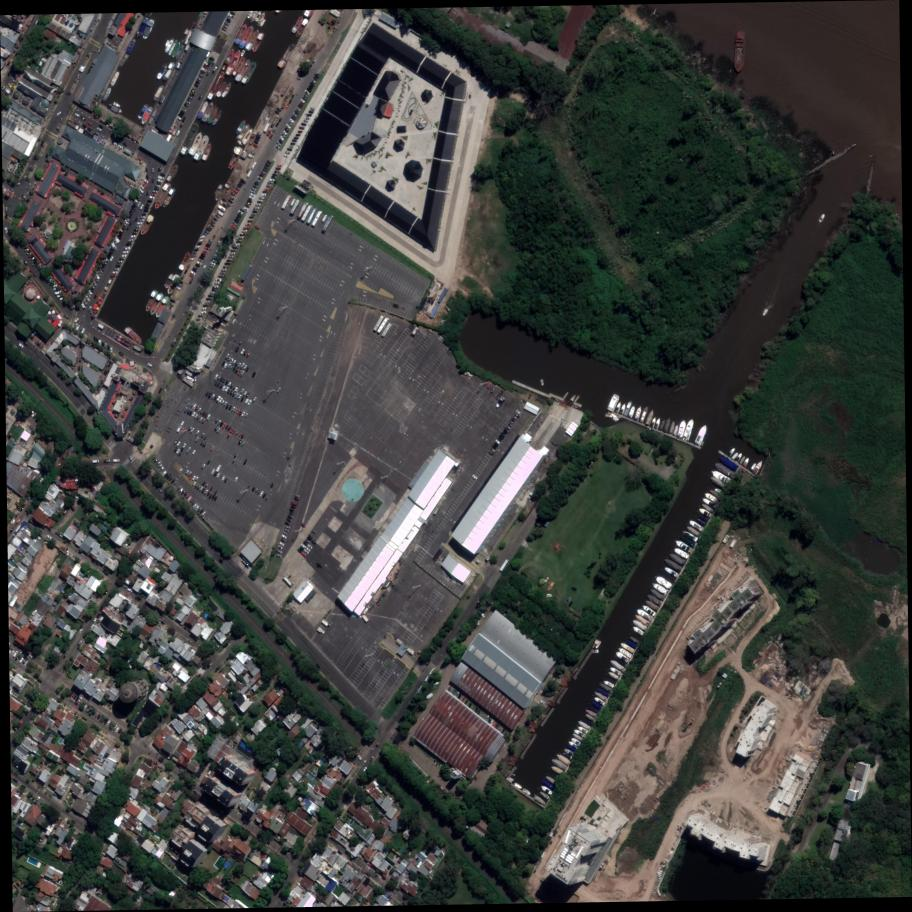large-vehicle: (376, 316, 390, 336), (372, 314, 386, 333), (301, 203, 314, 222), (297, 201, 310, 220), (306, 207, 318, 226), (311, 210, 323, 228), (322, 215, 334, 232), (289, 199, 301, 215), (381, 323, 392, 338), (281, 195, 292, 210), (410, 326, 420, 338), (289, 198, 297, 208), (250, 161, 258, 171), (321, 214, 328, 223), (246, 170, 253, 179), (206, 227, 212, 233), (244, 204, 251, 208), (246, 168, 250, 174)
ship: (178, 121, 203, 158), (151, 180, 174, 211), (206, 71, 227, 103), (276, 41, 299, 70), (223, 48, 244, 77), (192, 132, 212, 162), (733, 28, 746, 74), (225, 144, 246, 172), (237, 23, 257, 51), (233, 56, 253, 83), (240, 58, 259, 86), (186, 130, 205, 158), (243, 27, 262, 53), (147, 291, 166, 317), (123, 324, 145, 346), (153, 294, 171, 320), (142, 288, 160, 314), (712, 460, 736, 479), (138, 213, 156, 237), (709, 467, 733, 485), (693, 422, 710, 447), (140, 17, 156, 43), (672, 536, 695, 554), (293, 16, 310, 40), (249, 31, 266, 55), (233, 22, 250, 46), (231, 54, 248, 78), (161, 186, 178, 210), (221, 46, 237, 71), (134, 16, 151, 39), (681, 416, 696, 442), (200, 100, 216, 124), (239, 126, 257, 147), (234, 123, 252, 144), (165, 273, 181, 296), (177, 249, 193, 272), (206, 102, 221, 126), (289, 14, 306, 35), (718, 455, 739, 472), (663, 556, 684, 573), (653, 574, 674, 591), (160, 61, 176, 83), (650, 580, 670, 597), (606, 392, 622, 413), (165, 162, 181, 183), (549, 756, 569, 772), (635, 607, 655, 623), (162, 35, 177, 56), (709, 475, 730, 490), (219, 80, 234, 100), (667, 552, 687, 567), (632, 612, 652, 627), (140, 105, 154, 126), (196, 99, 210, 120), (201, 140, 214, 162), (672, 546, 691, 561), (155, 61, 169, 81), (166, 38, 180, 58), (108, 68, 122, 88), (675, 418, 688, 439), (687, 518, 705, 533), (662, 564, 680, 579), (648, 587, 666, 602), (645, 592, 663, 607), (643, 598, 661, 613), (640, 603, 658, 618), (215, 79, 229, 98), (136, 103, 150, 122), (151, 84, 165, 103), (681, 529, 700, 543), (213, 181, 225, 203), (531, 792, 548, 807), (613, 649, 630, 664), (609, 657, 626, 672), (162, 272, 176, 290), (234, 118, 248, 136), (751, 458, 765, 476), (616, 645, 634, 659), (703, 491, 721, 505), (700, 496, 718, 510), (685, 524, 703, 538), (631, 618, 649, 632), (170, 40, 183, 59), (211, 108, 224, 127), (555, 752, 572, 766), (597, 680, 614, 694), (549, 763, 566, 776), (619, 641, 636, 654), (696, 506, 713, 519), (622, 399, 634, 417), (644, 408, 656, 426), (639, 405, 650, 424), (538, 784, 554, 797), (540, 777, 556, 790), (117, 53, 130, 69), (593, 689, 609, 702), (708, 488, 724, 501), (101, 86, 113, 103), (126, 37, 137, 55), (662, 415, 673, 433), (544, 774, 559, 787), (631, 624, 646, 637), (494, 395, 506, 410), (572, 727, 587, 739), (633, 404, 643, 422), (596, 686, 611, 698), (700, 502, 715, 514), (256, 11, 267, 27), (174, 44, 185, 60), (179, 28, 190, 44), (571, 731, 585, 743), (577, 719, 591, 731), (608, 665, 623, 676), (593, 695, 606, 707), (606, 670, 620, 681), (602, 678, 616, 689), (653, 415, 663, 430), (628, 403, 637, 419), (726, 446, 738, 458), (576, 724, 589, 735), (567, 739, 580, 750), (565, 743, 578, 754), (591, 700, 604, 711), (625, 639, 638, 650), (584, 708, 598, 718), (538, 790, 551, 800), (563, 747, 576, 757), (734, 451, 744, 464), (628, 635, 641, 645), (584, 712, 597, 722), (254, 9, 263, 23), (614, 400, 623, 414), (672, 423, 681, 437), (570, 736, 582, 746), (749, 461, 759, 473), (738, 454, 748, 466), (561, 751, 574, 760), (658, 418, 667, 431), (669, 420, 677, 434), (730, 451, 741, 461), (521, 787, 533, 796), (742, 456, 751, 468), (619, 402, 627, 415), (513, 781, 524, 790), (610, 412, 621, 421), (818, 212, 827, 223), (591, 638, 600, 649), (650, 416, 658, 428), (569, 394, 578, 403), (425, 692, 435, 700), (259, 18, 267, 28), (564, 595, 572, 605), (112, 101, 122, 109), (761, 308, 769, 318), (594, 640, 602, 650), (239, 49, 246, 58), (164, 39, 171, 48), (604, 413, 614, 419), (591, 649, 600, 655), (611, 416, 618, 422), (540, 378, 545, 386), (433, 681, 440, 686), (701, 440, 705, 447)
small-vehicle: (216, 204, 227, 213), (316, 627, 326, 635), (216, 209, 225, 217), (445, 305, 453, 313), (107, 277, 114, 286), (171, 128, 178, 137), (215, 464, 222, 473), (215, 395, 222, 404), (80, 302, 87, 310), (110, 241, 117, 249), (8, 526, 15, 534), (14, 654, 21, 662), (12, 650, 19, 658), (103, 718, 110, 726), (475, 617, 481, 626), (14, 181, 21, 188), (111, 140, 118, 147), (114, 237, 121, 244), (73, 317, 80, 324), (18, 342, 25, 349), (91, 617, 98, 624), (28, 519, 35, 526), (302, 548, 309, 555), (307, 543, 314, 550), (172, 480, 179, 487), (161, 470, 168, 477), (543, 576, 550, 583), (513, 412, 520, 419), (493, 441, 500, 448), (214, 644, 221, 651), (240, 178, 247, 185), (176, 425, 182, 433), (157, 175, 165, 181), (36, 265, 44, 271), (137, 193, 143, 201), (54, 290, 62, 296), (60, 583, 66, 591), (203, 62, 211, 68), (179, 427, 185, 435), (185, 446, 191, 454), (181, 443, 187, 451), (480, 610, 486, 618), (112, 724, 118, 732), (91, 709, 97, 717), (215, 426, 221, 434), (230, 192, 238, 198), (188, 277, 194, 285), (211, 258, 219, 264), (213, 425, 219, 433), (247, 153, 255, 159), (204, 390, 210, 398), (239, 395, 245, 403), (229, 389, 235, 397), (231, 428, 237, 436), (194, 405, 200, 413), (216, 419, 222, 427), (239, 362, 245, 370), (239, 370, 245, 378), (58, 296, 67, 301), (123, 246, 130, 252), (143, 178, 150, 184), (181, 116, 187, 123), (117, 144, 124, 150), (131, 205, 137, 212), (124, 219, 130, 226), (30, 412, 37, 418), (75, 325, 81, 332), (19, 505, 25, 512), (127, 587, 134, 593), (10, 518, 16, 525), (46, 534, 53, 540), (15, 517, 21, 524), (175, 130, 181, 137), (12, 74, 18, 81), (189, 91, 196, 97), (192, 503, 199, 509), (188, 498, 195, 504), (184, 493, 190, 500), (182, 491, 188, 498), (178, 487, 184, 494), (203, 489, 209, 496), (198, 486, 204, 493), (300, 543, 307, 549), (296, 548, 303, 554), (305, 546, 311, 553), (188, 474, 194, 481), (175, 448, 181, 455), (172, 447, 178, 454), (173, 439, 179, 446), (242, 459, 248, 466), (189, 427, 195, 434), (240, 441, 246, 448), (213, 471, 219, 478), (176, 485, 182, 492), (168, 476, 174, 483), (166, 473, 172, 480), (158, 466, 165, 472), (153, 458, 160, 464), (490, 447, 497, 453), (470, 704, 476, 711), (457, 693, 463, 700), (454, 691, 460, 698), (515, 409, 522, 415), (510, 417, 517, 423), (505, 424, 512, 430), (500, 432, 507, 438), (484, 714, 490, 721), (369, 756, 375, 763), (717, 682, 723, 689), (599, 862, 605, 869), (300, 522, 307, 528), (21, 658, 27, 665), (28, 654, 35, 660), (8, 647, 14, 654), (62, 653, 68, 660), (78, 627, 84, 634), (22, 339, 28, 346), (35, 796, 41, 803), (192, 789, 199, 795), (196, 673, 202, 680), (117, 728, 123, 735), (114, 726, 120, 733), (106, 720, 112, 727), (82, 704, 88, 711), (69, 697, 76, 703), (214, 213, 221, 219), (227, 199, 234, 205), (232, 188, 239, 194), (231, 318, 237, 325), (199, 253, 206, 259), (193, 264, 199, 271), (232, 221, 239, 227), (233, 218, 240, 224), (246, 197, 253, 203), (249, 192, 256, 198), (249, 189, 256, 195), (227, 404, 233, 411), (222, 401, 228, 408), (246, 400, 252, 407), (236, 394, 242, 401), (231, 391, 237, 398), (223, 386, 229, 393), (186, 401, 192, 408), (198, 416, 204, 423), (191, 411, 197, 418), (183, 407, 189, 414), (234, 430, 240, 437), (221, 423, 227, 430), (218, 421, 224, 428), (206, 413, 212, 420), (196, 407, 202, 414), (228, 358, 234, 365), (226, 356, 232, 363), (224, 354, 230, 361), (242, 350, 248, 357), (118, 351, 125, 357), (234, 360, 240, 367), (231, 359, 237, 366), (236, 362, 242, 369), (214, 373, 220, 380), (226, 381, 232, 388), (276, 387, 282, 394), (231, 366, 237, 373), (226, 363, 232, 370), (241, 364, 247, 371), (87, 305, 92, 313), (56, 293, 64, 298), (227, 13, 235, 18), (290, 501, 298, 506), (233, 452, 238, 460), (214, 254, 222, 259), (225, 403, 230, 411), (207, 392, 212, 400), (169, 298, 177, 303), (221, 377, 226, 385), (234, 367, 239, 375), (82, 299, 88, 305), (85, 296, 91, 302), (90, 284, 96, 290), (33, 273, 39, 279), (23, 260, 29, 266), (92, 281, 98, 287), (140, 184, 146, 190), (98, 268, 104, 274), (104, 258, 110, 264), (105, 255, 111, 261), (122, 222, 128, 228), (48, 278, 54, 284), (279, 136, 285, 142), (286, 124, 292, 130), (289, 118, 295, 124), (294, 110, 300, 116), (303, 93, 309, 99), (304, 90, 310, 96), (276, 141, 282, 147), (275, 144, 281, 150), (27, 495, 33, 501), (64, 314, 70, 320), (14, 513, 20, 519), (123, 584, 129, 590), (147, 362, 153, 368), (70, 506, 76, 512), (61, 545, 67, 551), (96, 127, 102, 133), (55, 126, 61, 132), (5, 88, 11, 94), (178, 113, 184, 119), (191, 475, 197, 481), (200, 511, 206, 517), (194, 505, 200, 511), (190, 500, 196, 506), (187, 496, 193, 502), (180, 490, 186, 496), (312, 540, 318, 546), (301, 551, 307, 557), (280, 538, 286, 544), (282, 530, 288, 536), (186, 471, 192, 477), (157, 463, 163, 469), (178, 468, 184, 474), (170, 479, 176, 485), (156, 461, 162, 467), (509, 420, 515, 426), (507, 422, 513, 428), (504, 427, 510, 433), (502, 430, 508, 436), (499, 435, 505, 441), (98, 124, 104, 130), (357, 755, 363, 761), (495, 439, 501, 445), (10, 650, 16, 656), (96, 714, 102, 720), (74, 700, 80, 706), (238, 181, 244, 187), (195, 262, 201, 268), (235, 215, 241, 221), (49, 281, 56, 286), (51, 284, 58, 289), (34, 263, 41, 268), (4, 226, 9, 233), (125, 242, 132, 247), (69, 305, 76, 310), (146, 190, 151, 197), (151, 177, 156, 184), (158, 166, 163, 173), (28, 164, 33, 171), (10, 185, 15, 192), (22, 193, 27, 200), (109, 255, 114, 262), (117, 234, 122, 241), (139, 204, 144, 211), (257, 176, 264, 181), (272, 127, 277, 134), (266, 130, 271, 137), (260, 170, 267, 175), (264, 162, 271, 167), (53, 286, 60, 291), (9, 408, 14, 415), (312, 58, 317, 65), (96, 612, 101, 619), (158, 387, 163, 394), (75, 556, 82, 561), (1, 85, 6, 92), (198, 95, 203, 102), (190, 89, 197, 94), (258, 173, 265, 178), (204, 482, 209, 489), (209, 485, 214, 492), (211, 494, 216, 501), (283, 528, 290, 533), (286, 518, 293, 523), (178, 450, 183, 457), (202, 442, 207, 449), (187, 426, 192, 433), (270, 482, 275, 489), (259, 491, 264, 498), (256, 489, 261, 496), (234, 476, 239, 483), (223, 477, 228, 484), (450, 687, 455, 694), (490, 719, 495, 726), (362, 759, 367, 766), (501, 728, 506, 735), (24, 660, 29, 667), (19, 657, 24, 664), (488, 450, 495, 455), (94, 712, 99, 719), (226, 433, 231, 440), (222, 204, 229, 209), (203, 249, 210, 254), (198, 256, 205, 261), (196, 260, 203, 265), (209, 264, 216, 269), (210, 261, 217, 266), (252, 184, 259, 189), (254, 225, 261, 230), (243, 412, 248, 419), (241, 411, 246, 418), (233, 407, 238, 414), (218, 397, 223, 404), (210, 393, 215, 400), (244, 398, 249, 405), (234, 392, 239, 399), (226, 388, 231, 395), (221, 385, 226, 392), (192, 403, 197, 410), (201, 418, 206, 425), (196, 415, 201, 422), (193, 413, 198, 420), (237, 432, 242, 439), (229, 427, 234, 434), (227, 426, 232, 433), (219, 384, 224, 391), (216, 382, 221, 389), (213, 380, 218, 387), (245, 352, 250, 359), (240, 349, 245, 356), (235, 346, 240, 353), (186, 263, 191, 270), (189, 256, 196, 261), (252, 396, 257, 403), (242, 390, 247, 397), (234, 386, 239, 393), (232, 384, 237, 391), (224, 380, 229, 387), (219, 376, 224, 383), (237, 369, 242, 376), (223, 362, 228, 369), (221, 360, 226, 367), (61, 456, 69, 460), (112, 458, 120, 462), (147, 199, 153, 204), (156, 181, 162, 186), (157, 178, 163, 183), (87, 293, 92, 299), (90, 287, 95, 293), (30, 256, 36, 261), (24, 248, 30, 253), (96, 274, 101, 280), (139, 189, 145, 194), (179, 123, 184, 129), (22, 175, 27, 181), (122, 142, 128, 147), (113, 240, 118, 246), (100, 266, 105, 272), (109, 248, 114, 254), (110, 246, 115, 252), (134, 216, 139, 222), (119, 231, 124, 237), (127, 213, 132, 219), (160, 172, 166, 177), (308, 85, 314, 90), (274, 110, 280, 115), (278, 117, 283, 123), (275, 122, 280, 128), (256, 134, 262, 139), (281, 133, 286, 139), (284, 128, 290, 133), (292, 113, 298, 118), (296, 107, 301, 113), (285, 104, 290, 110), (300, 99, 306, 104), (262, 167, 268, 172), (264, 165, 270, 170), (266, 160, 272, 165), (283, 153, 289, 158), (269, 134, 274, 140), (310, 82, 315, 88), (13, 412, 18, 418), (314, 73, 320, 78), (160, 621, 166, 626), (104, 590, 109, 596), (73, 494, 79, 499), (38, 528, 44, 533), (100, 134, 106, 139), (81, 124, 87, 129), (87, 121, 93, 126), (56, 111, 62, 116), (13, 72, 18, 78), (10, 77, 15, 83), (8, 83, 13, 89), (87, 127, 93, 132), (230, 11, 236, 16), (181, 108, 187, 113), (185, 101, 191, 106), (186, 98, 192, 103), (188, 95, 194, 100), (198, 73, 204, 78), (199, 70, 205, 75), (213, 66, 218, 72), (221, 27, 227, 32), (199, 509, 204, 515), (196, 507, 202, 512), (214, 489, 219, 495), (206, 491, 211, 497), (201, 488, 206, 494), (196, 485, 201, 491), (276, 550, 282, 555), (302, 541, 308, 546), (276, 553, 282, 558), (277, 545, 283, 550), (279, 541, 285, 546), (281, 534, 287, 539), (284, 521, 290, 526), (287, 514, 293, 519), (289, 511, 295, 516), (289, 508, 295, 513), (194, 476, 199, 482), (211, 468, 216, 474), (206, 460, 211, 466), (201, 464, 206, 470), (176, 441, 181, 447), (231, 458, 236, 464), (210, 446, 215, 452), (200, 440, 205, 446), (195, 437, 200, 443), (200, 433, 205, 439), (195, 430, 200, 436), (180, 421, 185, 427), (216, 472, 221, 478), (184, 470, 189, 476), (157, 488, 163, 493), (164, 472, 169, 478), (261, 493, 266, 499), (254, 488, 259, 494), (251, 486, 256, 492), (247, 484, 252, 490), (312, 529, 318, 534), (468, 702, 473, 708), (464, 699, 469, 705), (461, 696, 466, 702), (447, 686, 452, 692), (358, 785, 364, 790), (370, 747, 375, 753), (363, 766, 368, 772), (494, 723, 499, 729), (497, 437, 503, 442), (71, 692, 76, 698), (492, 444, 497, 450), (263, 842, 269, 847), (73, 694, 78, 700), (89, 706, 94, 712), (86, 704, 91, 710), (78, 697, 83, 703), (238, 440, 243, 446), (226, 202, 232, 207), (230, 196, 236, 201), (235, 186, 241, 191), (236, 184, 242, 189), (201, 307, 207, 312), (213, 217, 219, 222), (211, 220, 217, 225), (210, 223, 216, 228), (192, 268, 198, 273), (190, 270, 196, 275), (202, 264, 207, 270), (208, 225, 214, 230), (208, 267, 214, 272), (204, 230, 210, 235), (230, 224, 236, 229), (237, 213, 243, 218), (238, 210, 244, 215), (240, 208, 246, 213), (243, 206, 249, 211), (246, 201, 252, 206), (248, 195, 254, 200), (251, 187, 257, 192), (252, 209, 258, 214), (238, 410, 243, 416), (235, 409, 240, 415), (231, 406, 236, 412), (220, 400, 225, 406), (189, 403, 194, 409), (240, 434, 245, 440), (214, 418, 219, 424), (204, 413, 209, 419), (202, 411, 207, 417), (199, 410, 204, 416), (177, 283, 183, 288), (238, 341, 243, 347), (184, 269, 189, 275), (180, 274, 185, 280), (176, 286, 182, 291), (245, 392, 250, 398), (240, 389, 245, 395), (217, 375, 222, 381), (251, 372, 256, 378), (245, 367, 250, 373), (133, 228, 140, 232), (28, 254, 35, 258), (127, 239, 134, 243), (92, 459, 99, 463), (103, 459, 110, 463), (81, 328, 85, 335), (79, 326, 83, 333), (66, 548, 70, 555), (206, 70, 210, 77), (265, 495, 269, 502), (477, 709, 481, 716), (475, 707, 479, 714), (498, 724, 502, 731), (260, 854, 267, 858), (215, 250, 222, 254), (216, 241, 220, 248), (268, 178, 275, 182), (236, 240, 243, 244), (187, 409, 191, 416), (230, 383, 234, 390), (151, 192, 156, 197), (88, 290, 93, 295), (133, 203, 138, 208), (134, 199, 139, 204), (142, 183, 147, 188), (128, 211, 133, 216), (101, 264, 106, 269), (125, 217, 130, 222), (278, 139, 283, 144), (257, 131, 262, 136), (283, 131, 288, 136), (288, 122, 293, 127), (291, 116, 296, 121), (302, 96, 307, 101), (255, 137, 260, 142), (301, 122, 306, 127), (254, 140, 259, 145), (307, 88, 312, 93), (11, 411, 16, 416), (313, 76, 318, 81), (297, 76, 302, 81), (124, 592, 129, 597), (177, 116, 182, 121), (75, 113, 80, 118), (180, 111, 185, 116), (184, 103, 189, 108), (194, 83, 199, 88), (197, 77, 202, 82), (208, 494, 213, 499), (306, 540, 311, 545), (300, 546, 305, 551), (308, 534, 313, 539), (191, 450, 196, 455), (307, 537, 312, 542), (512, 415, 517, 420), (78, 639, 83, 644), (205, 300, 210, 305), (149, 195, 155, 199), (154, 187, 160, 191), (154, 184, 160, 188), (21, 245, 27, 249), (8, 227, 11, 235), (115, 264, 121, 268), (117, 260, 123, 264), (119, 257, 125, 261), (151, 168, 155, 174), (120, 228, 124, 234), (137, 202, 141, 208), (297, 105, 303, 109), (299, 102, 305, 106), (293, 136, 299, 140), (287, 148, 293, 152), (290, 142, 296, 146), (303, 119, 309, 123), (306, 113, 312, 117), (308, 110, 314, 114), (310, 107, 316, 111), (253, 144, 259, 148), (104, 343, 108, 349), (74, 323, 78, 329), (31, 496, 35, 502), (10, 80, 14, 86), (223, 25, 229, 29), (224, 22, 230, 26), (226, 19, 232, 23), (255, 179, 261, 183), (202, 481, 206, 487), (195, 483, 199, 489), (192, 482, 196, 488), (295, 494, 301, 498), (294, 497, 300, 501), (290, 505, 296, 509), (285, 525, 291, 529), (203, 435, 207, 441), (221, 475, 225, 481), (488, 717, 492, 723), (37, 679, 43, 683), (76, 695, 80, 701), (202, 251, 208, 255), (198, 259, 204, 263), (208, 294, 214, 298), (215, 278, 221, 282), (250, 151, 256, 155), (274, 170, 280, 174), (267, 181, 273, 185), (227, 259, 233, 263), (239, 233, 245, 237), (243, 226, 249, 230), (247, 219, 253, 223), (255, 203, 261, 207), (262, 190, 268, 194), (208, 239, 214, 243), (189, 411, 193, 417), (225, 424, 229, 430), (178, 280, 184, 284), (169, 302, 175, 306), (198, 238, 204, 242), (197, 242, 203, 246), (229, 365, 233, 371), (146, 173, 149, 180), (110, 346, 113, 353), (107, 345, 110, 352), (98, 339, 101, 346), (493, 721, 496, 728), (95, 278, 99, 283), (146, 203, 151, 207), (152, 189, 157, 193), (27, 252, 32, 256), (98, 272, 102, 277), (130, 208, 134, 213), (103, 261, 107, 266), (108, 253, 112, 258), (122, 226, 126, 231), (289, 145, 294, 149), (298, 130, 303, 134), (312, 80, 317, 84), (81, 117, 86, 121), (195, 81, 200, 85), (203, 65, 208, 69), (227, 16, 232, 20), (254, 182, 259, 186), (359, 783, 364, 787), (271, 175, 276, 179), (228, 255, 233, 259), (233, 246, 238, 250), (257, 200, 262, 204), (205, 244, 210, 248), (137, 222, 143, 225), (144, 206, 150, 209), (132, 232, 138, 235), (130, 235, 136, 238), (110, 274, 116, 277), (112, 271, 118, 274), (121, 254, 127, 257), (122, 251, 128, 254), (5, 214, 8, 220), (5, 207, 8, 213), (285, 151, 291, 154), (292, 139, 298, 142), (299, 127, 305, 130), (96, 338, 99, 344), (93, 336, 96, 342), (77, 74, 80, 80), (482, 713, 485, 719), (197, 314, 203, 317), (201, 311, 207, 314), (203, 304, 209, 307), (206, 297, 212, 300), (214, 282, 220, 285), (200, 235, 206, 238), (220, 272, 226, 275), (221, 269, 227, 272), (275, 167, 281, 170), (277, 164, 283, 167), (223, 266, 229, 269), (229, 252, 235, 255), (231, 249, 237, 252), (237, 237, 243, 240), (249, 216, 255, 219), (253, 207, 259, 210), (259, 197, 265, 200), (192, 251, 198, 254), (191, 254, 197, 257), (214, 285, 218, 289), (136, 225, 141, 228), (139, 219, 144, 222), (140, 216, 145, 219), (143, 209, 148, 212), (114, 268, 119, 271), (296, 134, 301, 137), (305, 117, 310, 120), (95, 132, 100, 135), (218, 275, 223, 278), (196, 318, 201, 321), (210, 291, 215, 294), (212, 289, 217, 292), (272, 173, 277, 176), (266, 184, 271, 187), (242, 230, 247, 233), (236, 243, 241, 246), (264, 188, 269, 191), (245, 223, 250, 226), (251, 213, 256, 216), (207, 242, 212, 245), (196, 245, 201, 248), (141, 213, 148, 215), (102, 341, 104, 348), (146, 166, 148, 172), (224, 263, 230, 265), (261, 194, 267, 196), (195, 248, 199, 251)
storage-tank: (119, 682, 137, 703), (26, 287, 37, 300), (38, 340, 42, 345), (31, 333, 35, 338), (57, 314, 61, 319), (58, 323, 62, 327), (37, 295, 41, 299), (60, 320, 63, 324), (52, 310, 55, 314), (48, 311, 51, 315), (34, 332, 37, 335)
